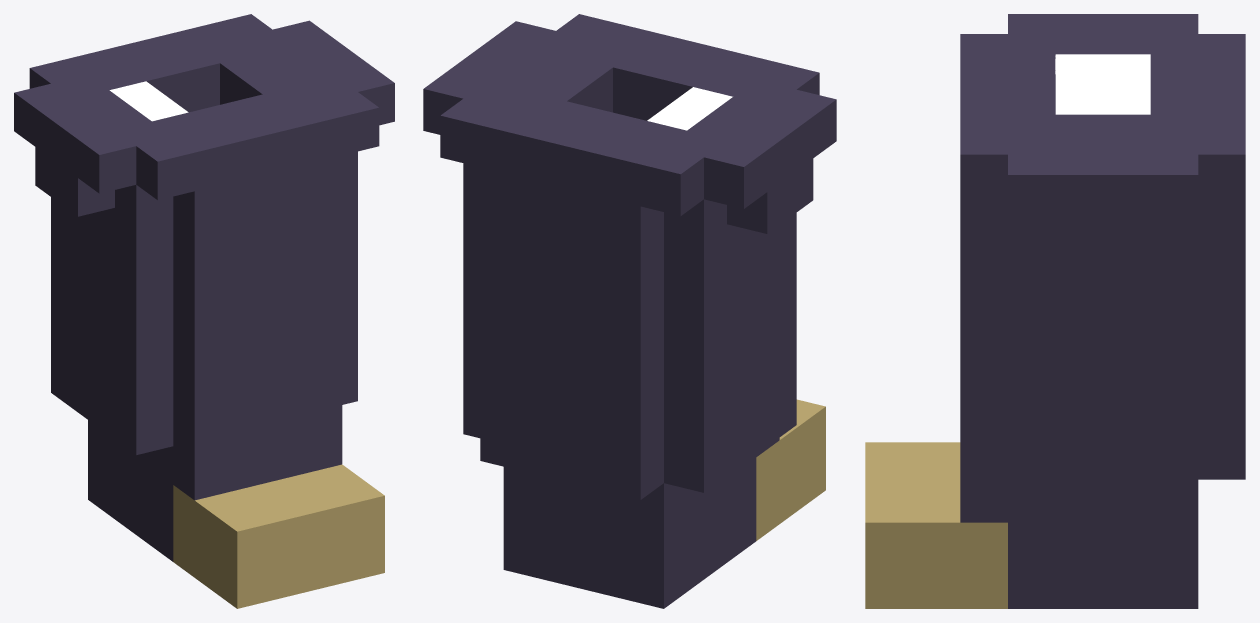
Rendered from mystic_legendary_glove_L_lod1.glb.
3 views of the same model, side by side, from view 1: azimuth 30°, elevation 25°; view 2: azimuth 150°, elevation 25°; view 3: azimuth 270°, elevation 25° (orthographic). The views are drawn at different scales.
Visible parts, largest first — view 1: mystic_legendary_glove_L_lod1; view 2: mystic_legendary_glove_L_lod1; view 3: mystic_legendary_glove_L_lod1.
Part boxes in pixels (bbox=[...]): mystic_legendary_glove_L_lod1: bbox=[14, 14, 394, 608]; mystic_legendary_glove_L_lod1: bbox=[423, 14, 836, 608]; mystic_legendary_glove_L_lod1: bbox=[865, 14, 1245, 608].
Bounding box in the file's own units: 0.192 × 0.264 × 0.192.
